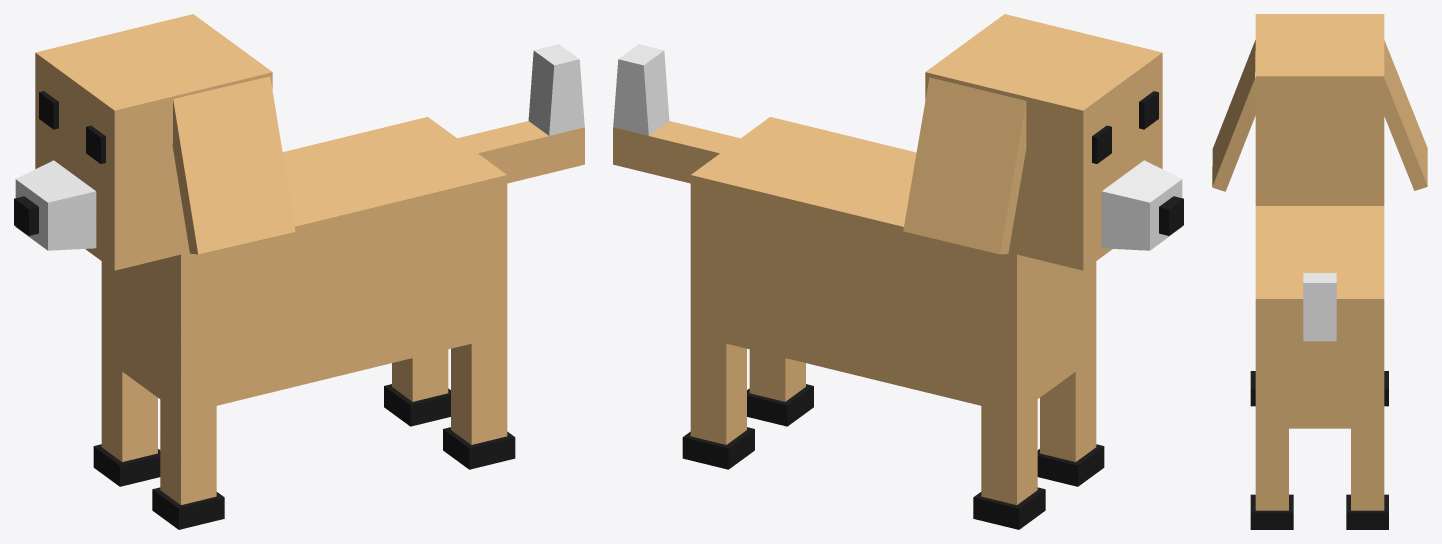
Rendered from dog.glb.
3 renders of one model, left to right at view 1: azimuth 30°, elevation 25°; view 2: azimuth 150°, elevation 25°; view 3: azimuth 270°, elevation 25°, orthographic. The views are drawn at different scales.
Parts seen in each view (by area): view 1: group571269158, group1603188900, group820031791, group1778555128, group895168117, group1548720430, group967915942, group575475618, group46686671, group1171828856, group2064127136, group1371906315 (+3 smaller); view 2: group571269158, group1603188900, group1618594770, group1171828856, group1548720430, group1778555128, group967915942, group575475618, group46686671, group895168117, group1363169703, group1058480944 (+3 smaller); view 3: group1603188900, group571269158, group895168117, group1171828856, group1618594770, group820031791, group46686671, group1371906315, group575475618, group1058480944.
Boxes of the visible parts, bbox=[...] form: group571269158: bbox=[101, 117, 507, 407]; group1603188900: bbox=[35, 14, 272, 270]; group820031791: bbox=[172, 76, 295, 254]; group1778555128: bbox=[160, 362, 216, 504]; group895168117: bbox=[451, 335, 507, 444]; group1548720430: bbox=[101, 319, 157, 461]; group967915942: bbox=[15, 160, 96, 250]; group575475618: bbox=[457, 121, 584, 183]; group46686671: bbox=[528, 44, 584, 135]; group1171828856: bbox=[392, 349, 448, 401]; group2064127136: bbox=[152, 487, 224, 529]; group1371906315: bbox=[443, 427, 515, 469]; group571269158: bbox=[690, 117, 1096, 414]; group1603188900: bbox=[925, 14, 1162, 270]; group1618594770: bbox=[903, 77, 1026, 254]; group1171828856: bbox=[690, 298, 746, 444]; group1548720430: bbox=[981, 362, 1037, 504]; group1778555128: bbox=[1040, 319, 1096, 461]; group967915942: bbox=[1101, 160, 1182, 250]; group575475618: bbox=[613, 121, 740, 183]; group46686671: bbox=[613, 44, 669, 135]; group895168117: bbox=[749, 349, 805, 401]; group1363169703: bbox=[973, 487, 1045, 529]; group1058480944: bbox=[682, 427, 754, 469]; group1603188900: bbox=[1255, 14, 1384, 205]; group571269158: bbox=[1255, 206, 1384, 428]; group895168117: bbox=[1255, 394, 1288, 510]; group1171828856: bbox=[1351, 398, 1384, 510]; group1618594770: bbox=[1384, 40, 1427, 190]; group820031791: bbox=[1212, 40, 1255, 191]; group46686671: bbox=[1303, 273, 1336, 341]; group1371906315: bbox=[1250, 494, 1293, 529]; group575475618: bbox=[1303, 341, 1336, 371]; group1058480944: bbox=[1346, 494, 1388, 529].
Bounding box in the file's own units: 1.09 × 0.83 × 0.4522.
